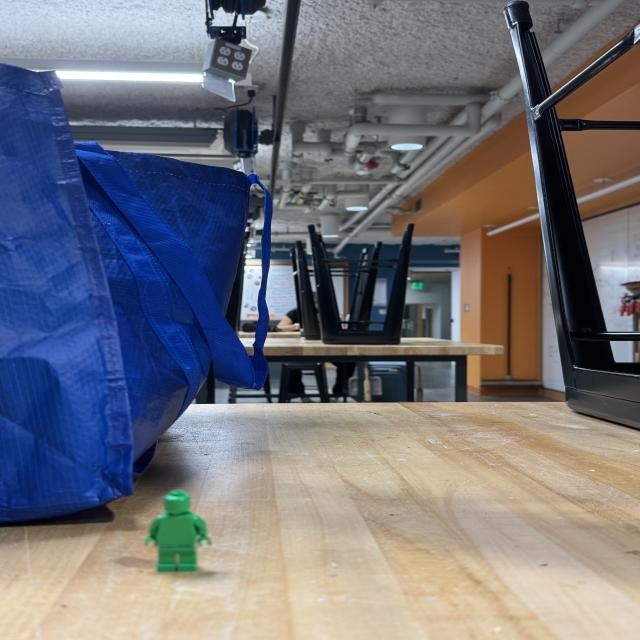Green Mini Figure: (145, 490, 211, 572)
